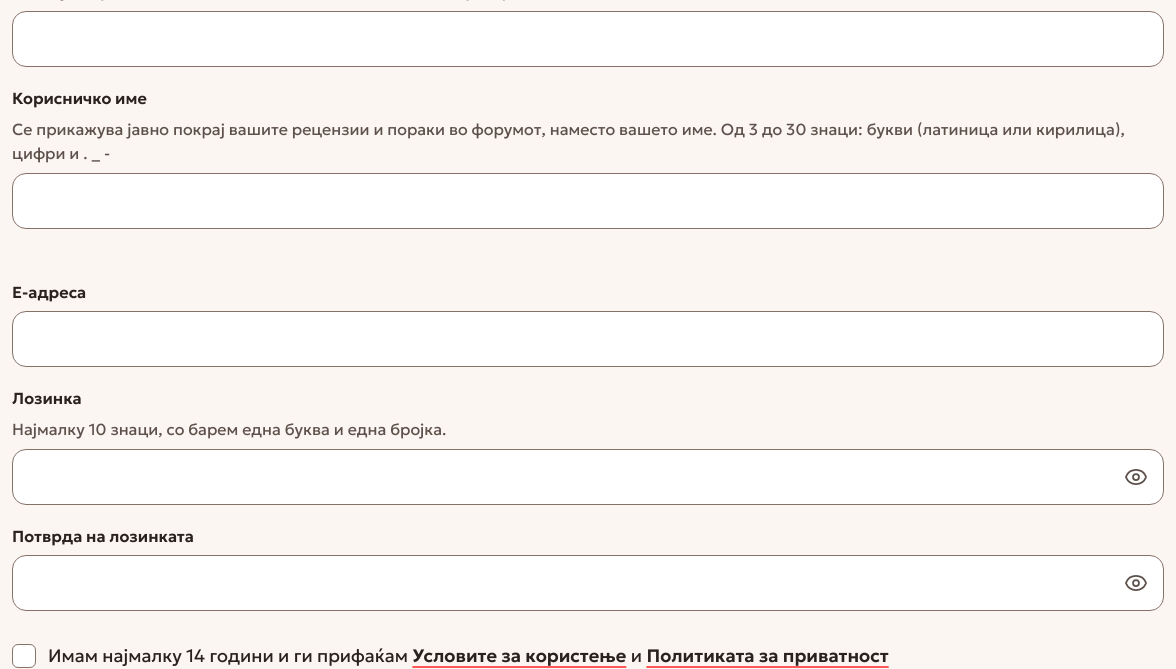
Test case: RegisterForm › shows the API's username refusal under the field
The width and height of the screenshot is (1176, 669).
Type "Ана" into the field labelled "Име и презиме" at (588,39), box x1=12 y1=11 x2=1164 y2=67
Type "ana@example.mk" into the field labelled "Е-адреса" at (588,339), box x1=12 y1=311 x2=1164 y2=367
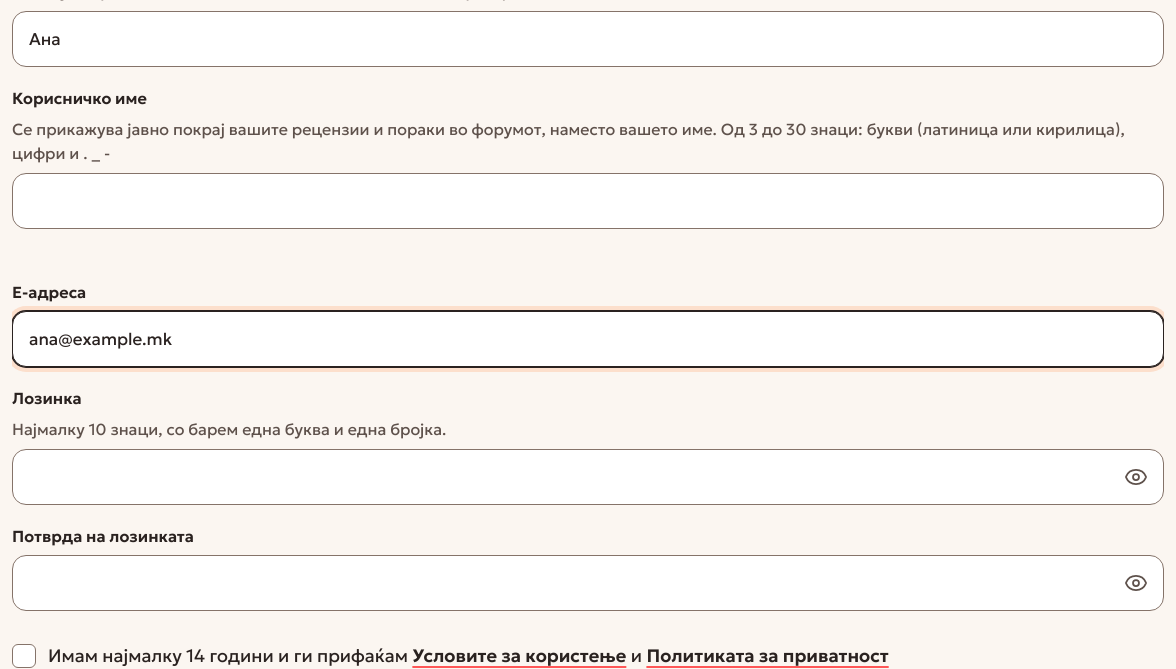
Type "lozinka12345" into the password field labelled "Лозинка" at (588,477), box x1=12 y1=449 x2=1164 y2=505
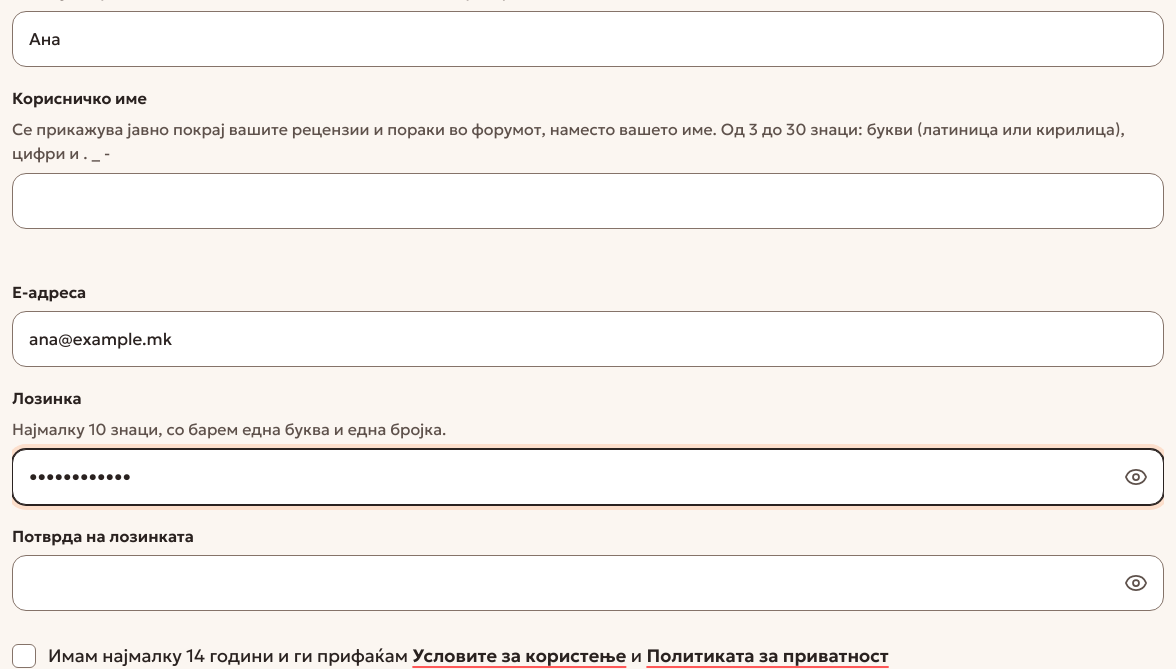
Type "lozinka12345" into the password field labelled "Потврда на лозинката" at (588,583), box x1=12 y1=555 x2=1164 y2=611
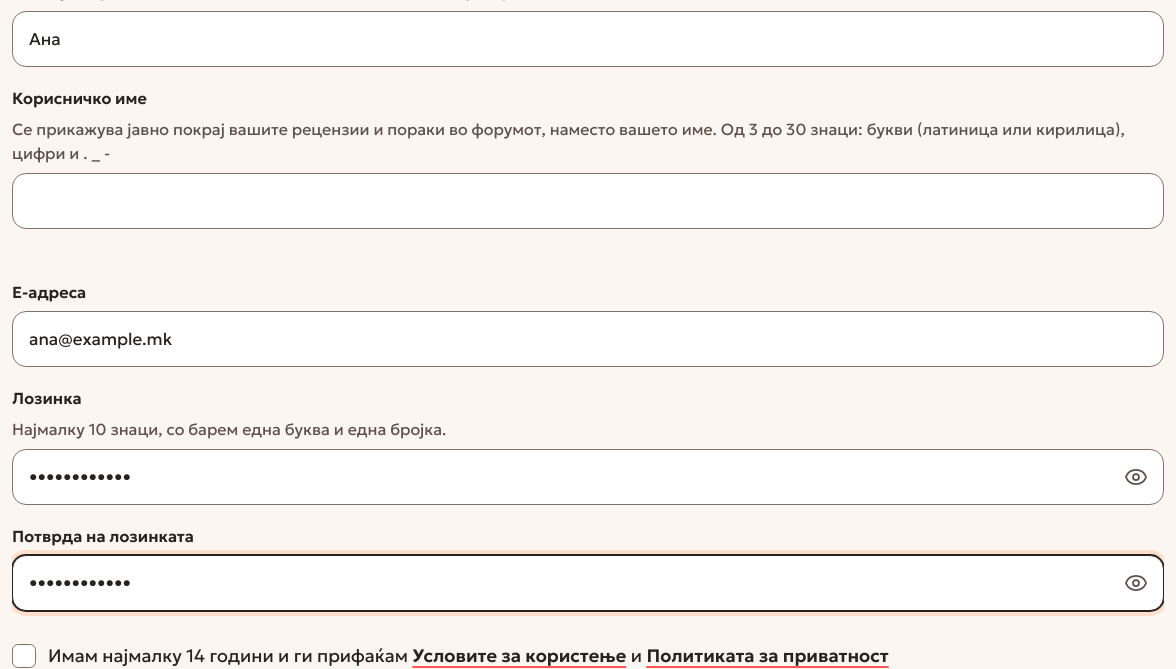
Click the checkbox at (24,656), box x1=12 y1=644 x2=36 y2=668
(page scrolled)
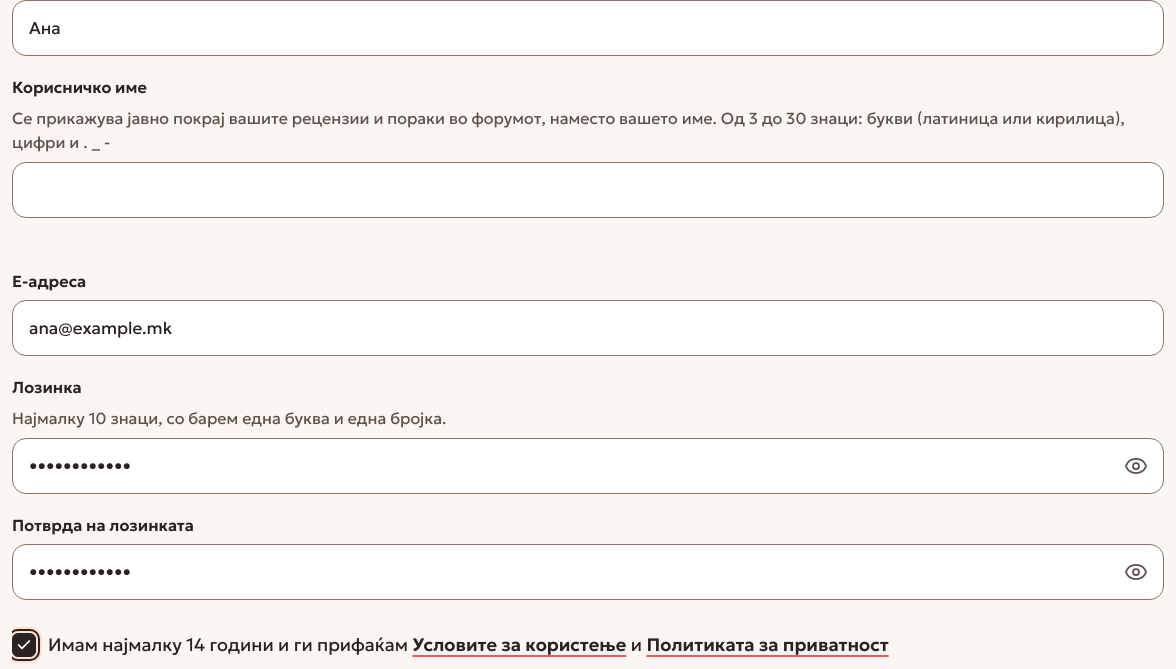
Type "ana_bt" into the field labelled "Корисничко име" at (588,190), box x1=12 y1=162 x2=1164 y2=218
(page scrolled)
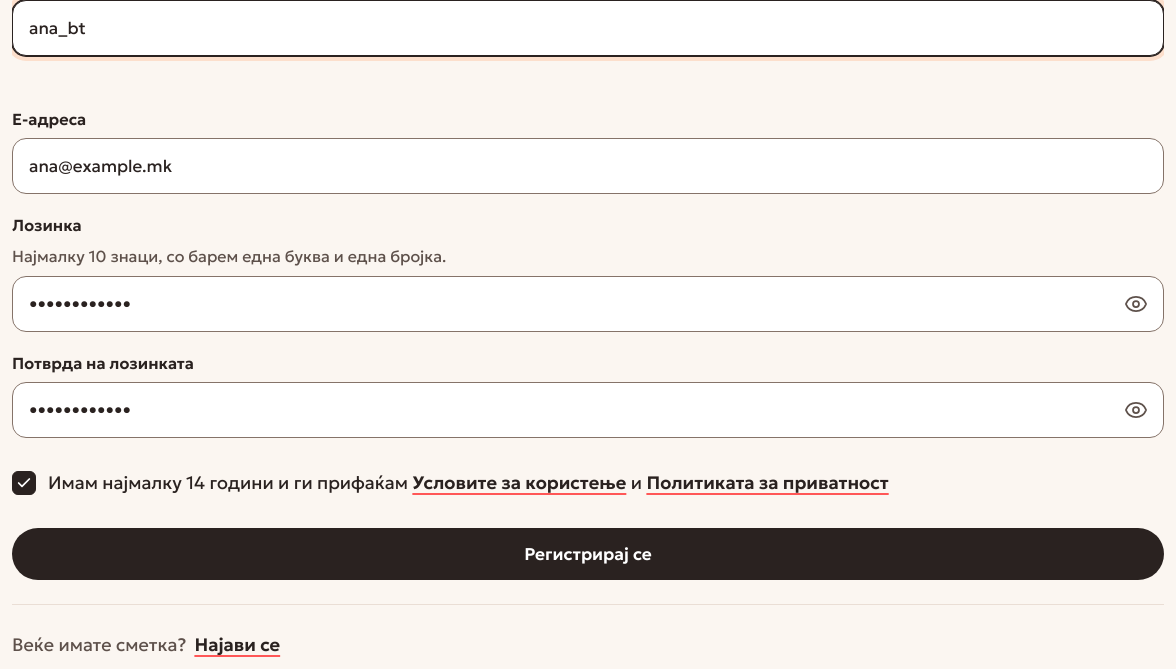
Click the button "Регистрирај се" at (588,554), box x1=12 y1=528 x2=1164 y2=580
(page scrolled)
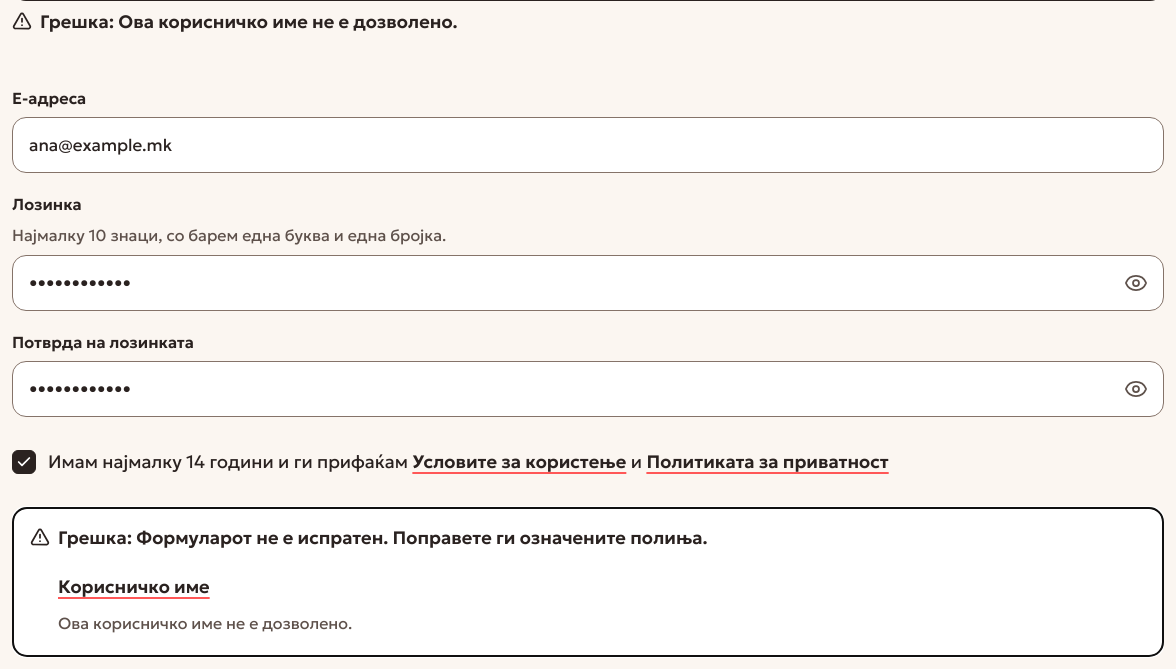
Check: the message that starts with "Грешка:" shows "Ова корисничко име не е дозволено.", box x1=58 y1=613 x2=352 y2=633
